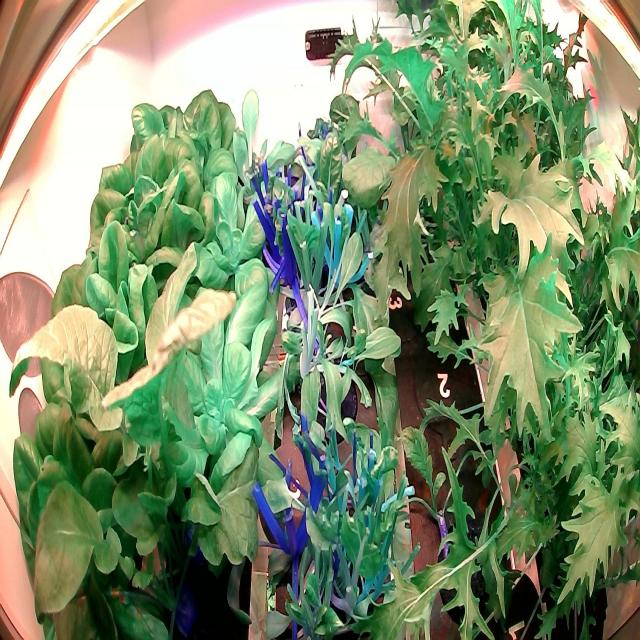Ready: (9, 354, 170, 640), (34, 142, 152, 364), (126, 84, 237, 247)
empty_pod: (405, 329, 468, 428)
young: (165, 298, 283, 478), (226, 82, 302, 197), (197, 178, 265, 281)
